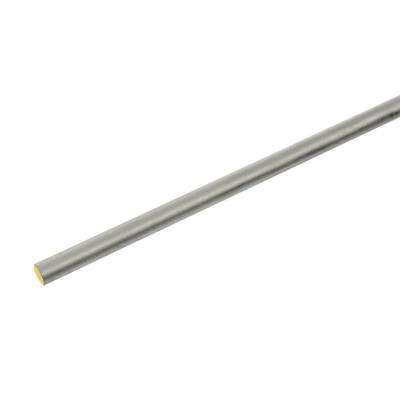metal: (32, 94, 400, 285)
